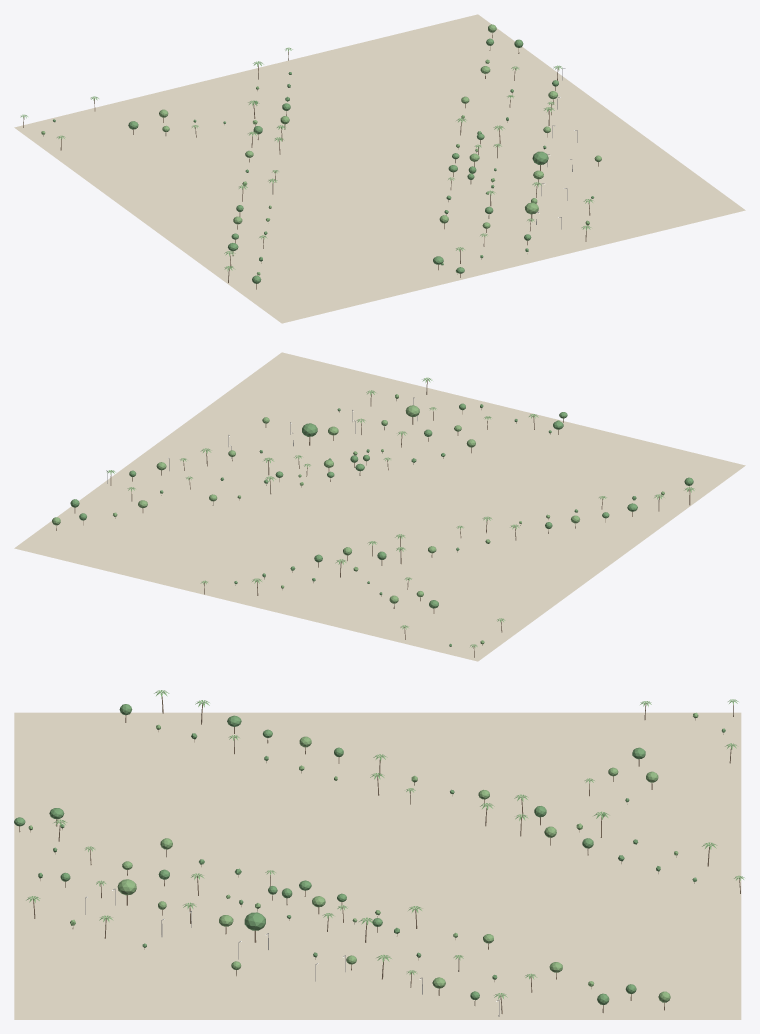
The model's file is nature_1_4.glb.
3 renders of one model, top to bottom at view 1: azimuth 30°, elevation 25°; view 2: azimuth 150°, elevation 25°; view 3: azimuth 270°, elevation 25°, orthographic. The views are drawn at different scales.
Parts seen in each view (by area): view 1: ground, foliage_a, foliage_b, palm_leaf, trunk; view 2: ground, foliage_a, foliage_b, palm_leaf, trunk; view 3: ground, foliage_a, foliage_b, palm_leaf, trunk.
Boxes of the visible parts, bbox=[...] form: ground: bbox=[14, 14, 745, 323]; foliage_a: bbox=[53, 38, 594, 283]; foliage_b: bbox=[41, 24, 601, 275]; palm_leaf: bbox=[20, 47, 593, 271]; trunk: bbox=[23, 33, 598, 289]; ground: bbox=[14, 352, 745, 661]; foliage_a: bbox=[70, 403, 693, 646]; foliage_b: bbox=[52, 394, 664, 644]; palm_leaf: bbox=[107, 377, 694, 647]; trunk: bbox=[56, 380, 690, 657]; ground: bbox=[14, 712, 741, 1019]; foliage_a: bbox=[14, 704, 725, 1004]; foliage_b: bbox=[28, 712, 698, 1002]; palm_leaf: bbox=[26, 690, 744, 999]; trunk: bbox=[19, 696, 740, 1013].
Bounding box in the file's own units: 252 × 11.12 × 252.
